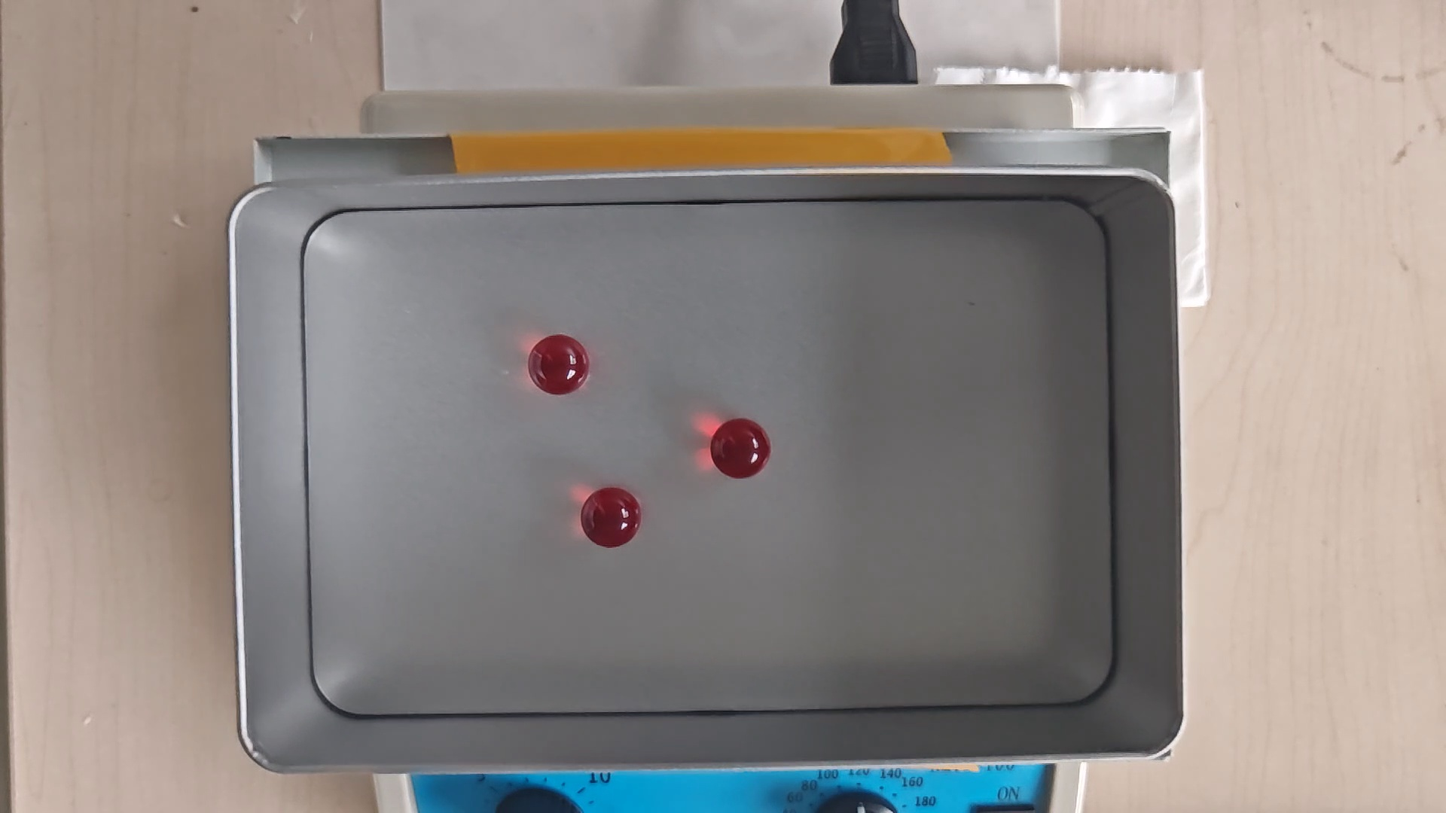ball: (580, 486, 641, 549), (710, 417, 770, 480), (528, 335, 587, 397)
container: (302, 206, 1117, 714)
